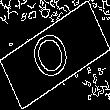O_SE: (30, 22, 80, 88)
